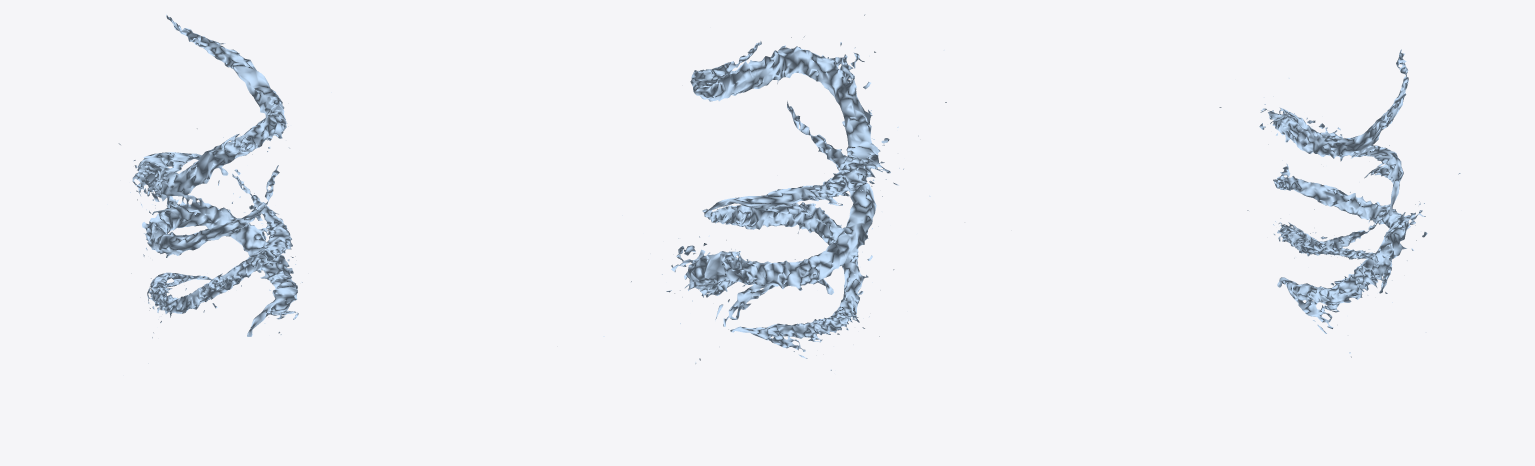
File: splash.glb
3 renders of one model, left to right at view 1: azimuth 30°, elevation 25°; view 2: azimuth 150°, elevation 25°; view 3: azimuth 270°, elevation 25°, orthographic. The views are drawn at different scales.
Visible parts, largest first — view 1: Splash1, Splash2, Splash0; view 2: Splash1, Splash2, Splash0; view 3: Splash2, Splash1, Splash0.
Boxes of the visible parts, x1=… form: Splash1: x1=130, y1=14, x2=331, y2=273; Splash2: x1=107, y1=128, x2=302, y2=336; Splash0: x1=147, y1=173, x2=292, y2=363; Splash1: x1=690, y1=14, x2=946, y2=262; Splash2: x1=603, y1=101, x2=878, y2=363; Splash0: x1=702, y1=196, x2=894, y2=370; Splash2: x1=1273, y1=163, x2=1460, y2=357; Splash1: x1=1219, y1=49, x2=1408, y2=215; Splash0: x1=1247, y1=209, x2=1391, y2=293.
Bounding box in the file's own units: 7.34 × 4.97 × 4.43.
